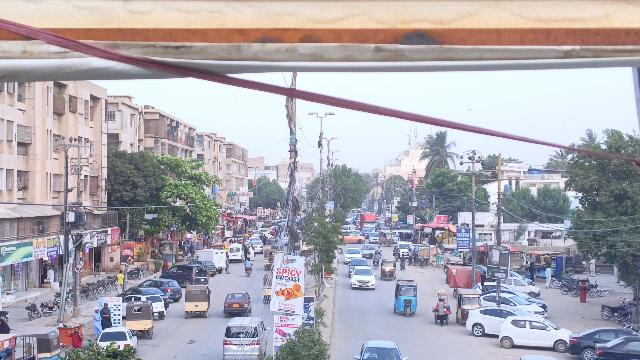Bike: (242, 266, 255, 279)
Car: (496, 312, 570, 352), (566, 326, 629, 360), (464, 306, 512, 338), (95, 327, 138, 358), (592, 333, 640, 360), (162, 263, 210, 287), (222, 290, 254, 318), (349, 265, 377, 291), (142, 293, 167, 320)
Cart: (431, 287, 452, 326)
Person: (90, 306, 102, 336), (99, 301, 112, 328), (115, 269, 124, 294), (246, 257, 253, 269)
Rickshaw: (124, 301, 157, 339), (183, 284, 214, 319), (455, 287, 482, 324), (393, 278, 419, 316), (379, 255, 398, 282)
Truck: (196, 246, 227, 268)
Van: (221, 316, 269, 360)
